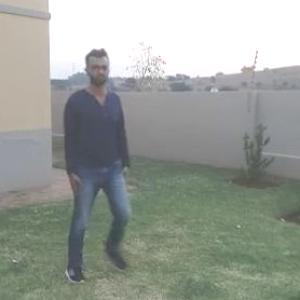follow: (58, 52, 124, 245)
